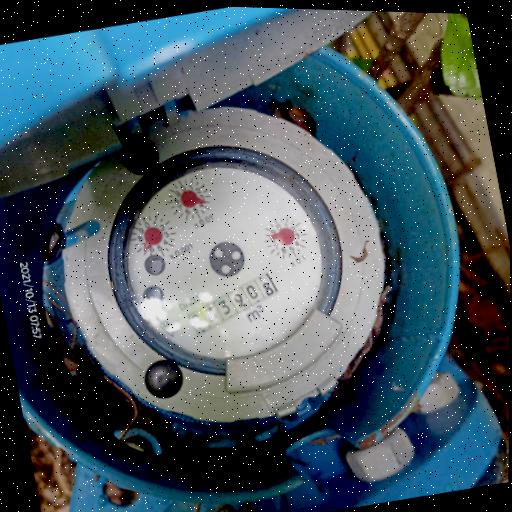0: (242, 278, 265, 306)
3: (200, 302, 224, 329), (214, 294, 238, 321)
8: (253, 273, 278, 299)
9: (227, 287, 251, 313)
border_water_meter_number: (179, 266, 286, 342)
